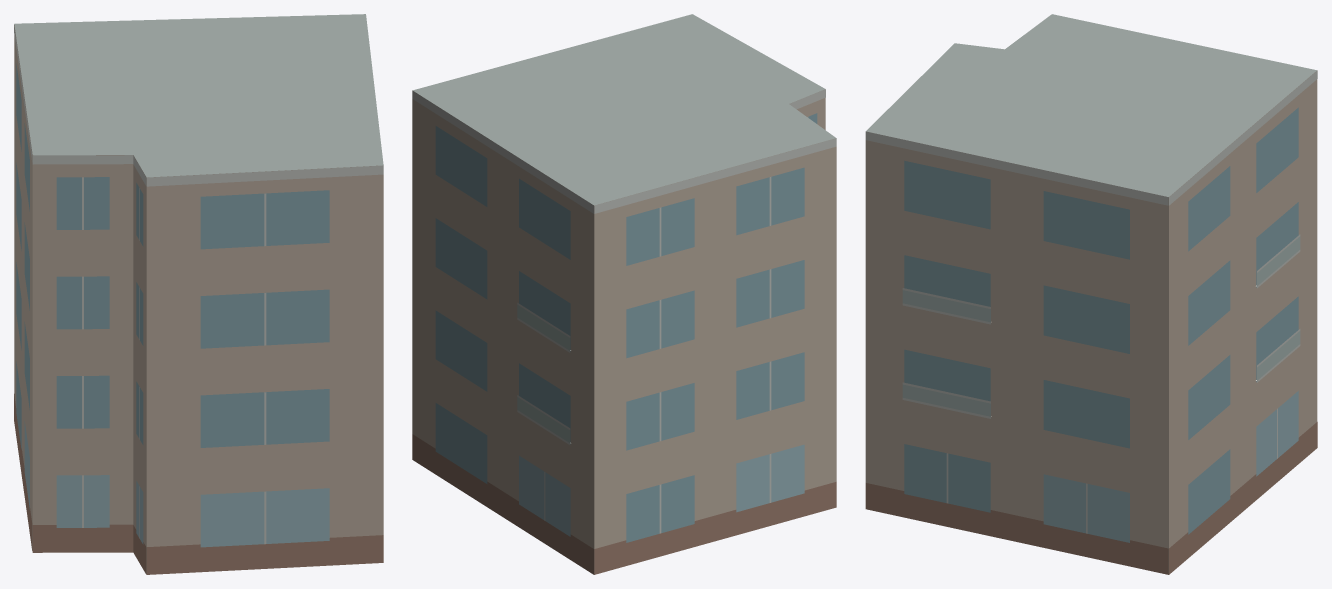
Rendered from survey-upis-32740638.glb.
3 views of the same model, side by side, from view 1: azimuth 30°, elevation 25°; view 2: azimuth 150°, elevation 25°; view 3: azimuth 270°, elevation 25° (orthographic). The views are drawn at different scales.
Parts seen in each view (by area): view 1: survey-upis-32740638.tmp; view 2: survey-upis-32740638.tmp; view 3: survey-upis-32740638.tmp.
Boxes of the visible parts, bbox=[...] form: survey-upis-32740638.tmp: bbox=[14, 14, 383, 574]; survey-upis-32740638.tmp: bbox=[412, 14, 836, 574]; survey-upis-32740638.tmp: bbox=[865, 14, 1317, 574].
Size of the model in its own units: 11.03 by 10.6 by 11.5.
